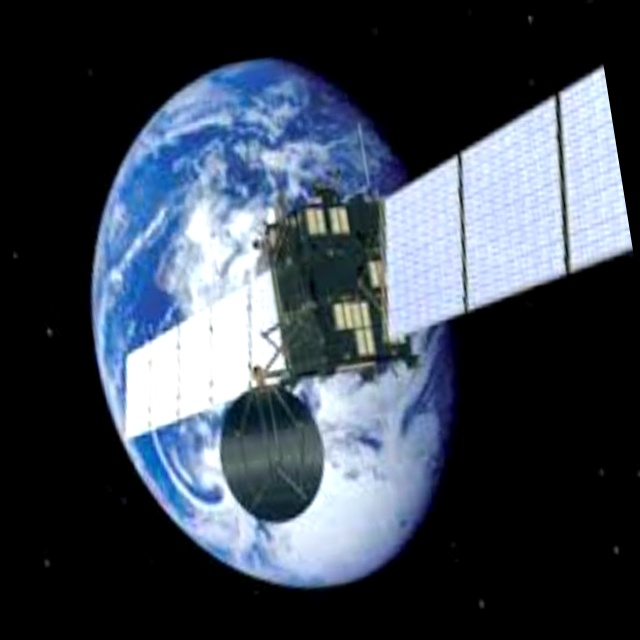satellite: (71, 47, 640, 561)
